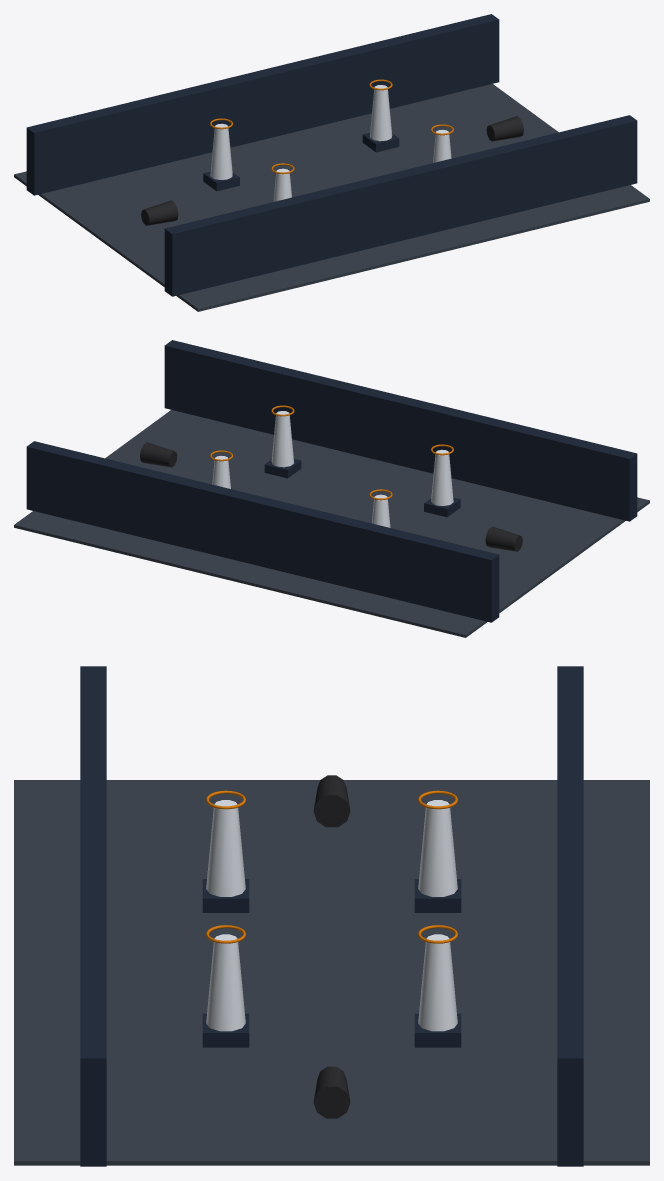
Rendered from vol_03.glb.
The picture shows the model from 3 angles, top to bottom: view 1: azimuth 30°, elevation 25°; view 2: azimuth 150°, elevation 25°; view 3: azimuth 270°, elevation 25°; orthographic projection. The views are drawn at different scales.
Parts seen in each view (by area): view 1: VOL_03, scenario_tile_box_floor; view 2: VOL_03, scenario_tile_box_floor; view 3: scenario_tile_box_floor, VOL_03.
Boxes of the visible parts, x1,y1,x2,y2 form: VOL_03: [26, 14, 637, 296]; scenario_tile_box_floor: [14, 84, 649, 311]; VOL_03: [26, 340, 637, 622]; scenario_tile_box_floor: [14, 410, 649, 637]; scenario_tile_box_floor: [14, 780, 649, 1165]; VOL_03: [80, 666, 583, 1166].
Bounding box in the file's own units: 70 × 9.4 × 48.
